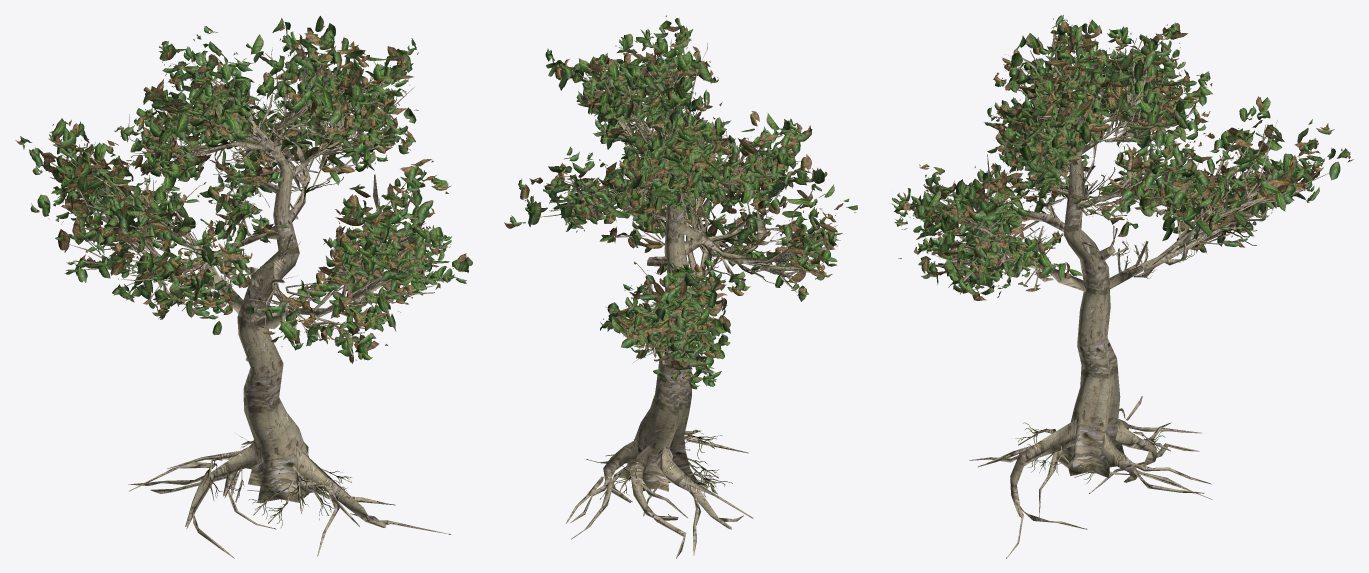
Rendered from kingsville_wood03.gltf.
3 views of the same model, side by side, from view 1: azimuth 30°, elevation 25°; view 2: azimuth 150°, elevation 25°; view 3: azimuth 270°, elevation 25° (orthographic). The views are drawn at different scales.
Visible parts, largest first — view 1: Kingsville wood03; view 2: Kingsville wood03; view 3: Kingsville wood03.
Boxes of the visible parts, <box> form: Kingsville wood03: <box>15,16,472,558</box>; Kingsville wood03: <box>504,15,857,558</box>; Kingsville wood03: <box>891,15,1353,558</box>.
Bounding box in the file's own units: 2.78 × 4.48 × 3.93.
4 materials, 4 textured.
